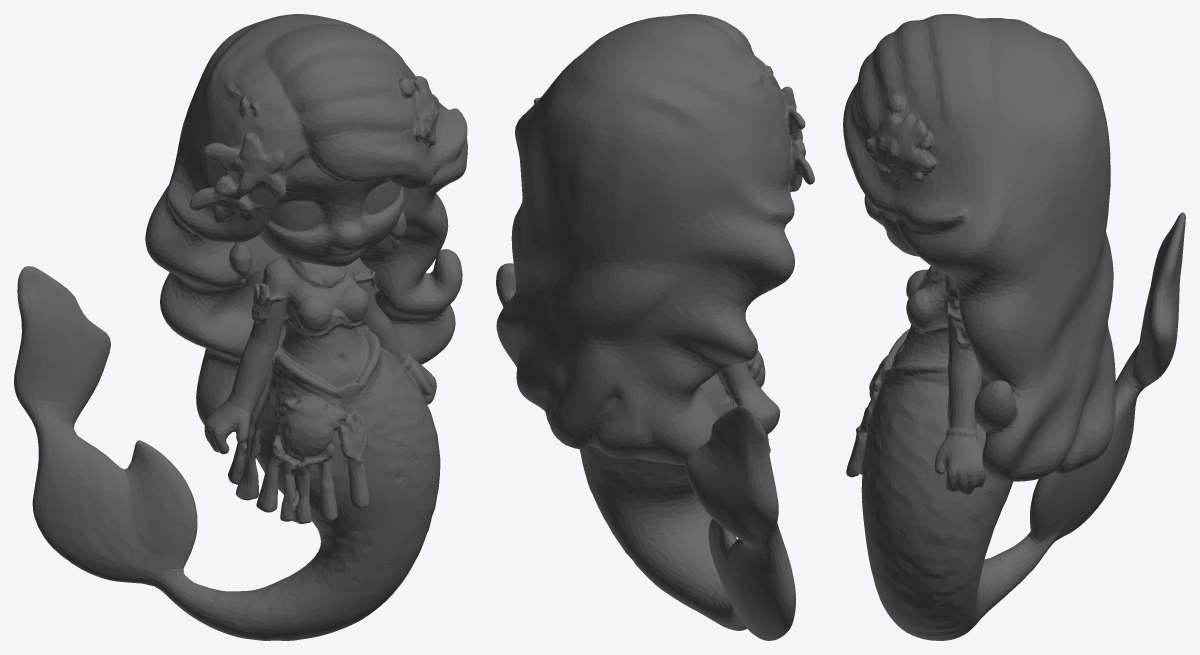
3 renders of one model, left to right at view 1: azimuth 30°, elevation 25°; view 2: azimuth 150°, elevation 25°; view 3: azimuth 270°, elevation 25°, orthographic. The views are drawn at different scales.
Visible parts, largest first — view 1: mesh_uvwarp.002; view 2: mesh_uvwarp.002; view 3: mesh_uvwarp.002.
Part boxes in pixels (x1,y1,x2,y2): mesh_uvwarp.002: (14,14,467,640); mesh_uvwarp.002: (496,14,814,640); mesh_uvwarp.002: (843,14,1185,640).
Bounding box in the file's own units: 1.29 × 2 × 1.01.
1 material, 1 textured.
